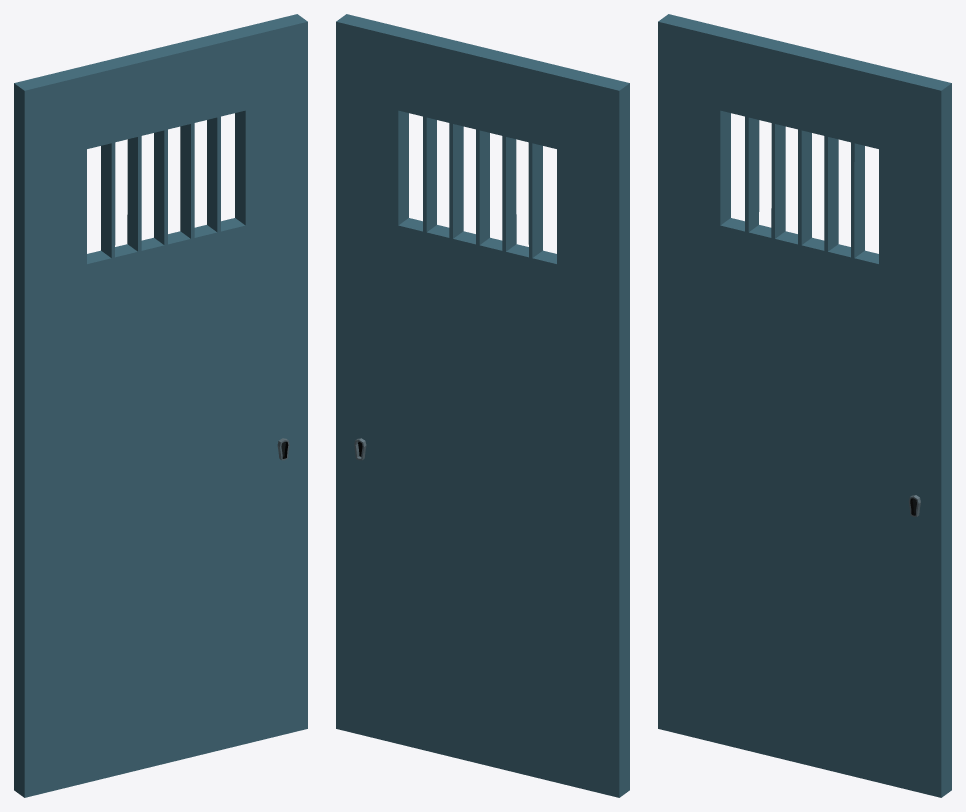
File: Door01.fbx
The picture shows the model from 3 angles, left to right: view 1: azimuth 30°, elevation 25°; view 2: azimuth 150°, elevation 25°; view 3: azimuth 330°, elevation 25°; orthographic projection.
Parts seen in each view (by area): view 1: Door01; view 2: Door01; view 3: Door01.
Part boxes in pixels (<box>): Door01: <box>14,14,307,797</box>; Door01: <box>336,14,629,797</box>; Door01: <box>658,14,951,797</box>.
Bounding box in the file's own units: 78 × 186 × 7.25.
